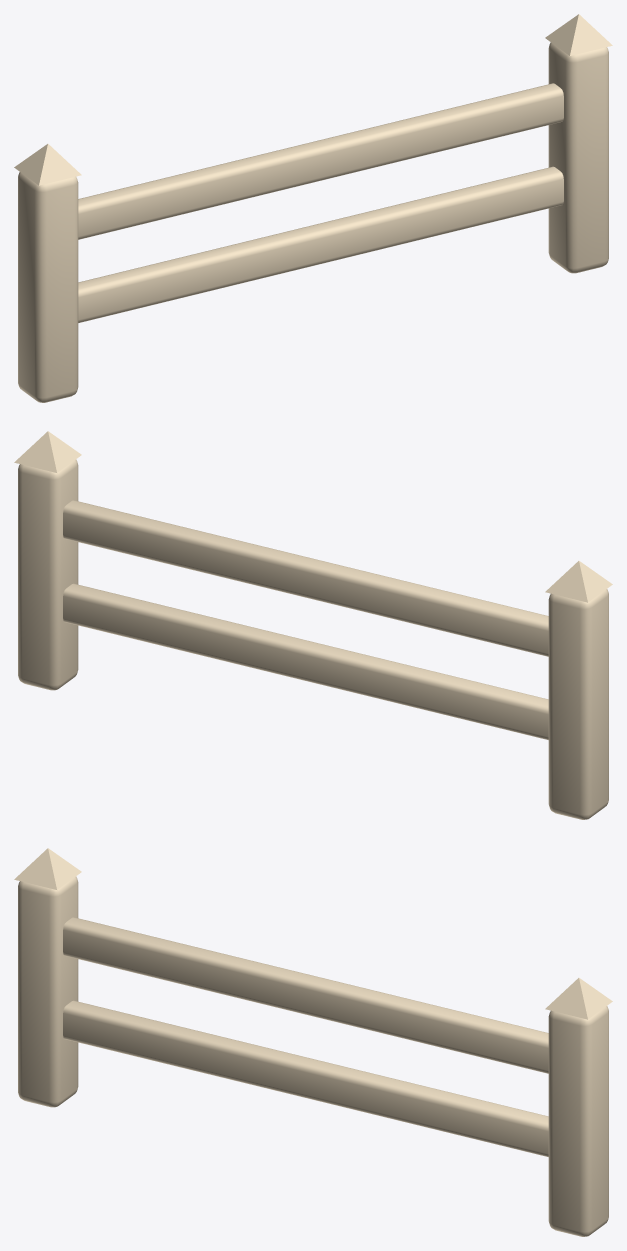
File: fence.glb
The picture shows the model from 3 angles, top to bottom: view 1: azimuth 30°, elevation 25°; view 2: azimuth 150°, elevation 25°; view 3: azimuth 330°, elevation 25°; orthographic projection.
Visible parts, largest first — view 1: Rail0, Rail1, Post0, Post1, Cap0, Cap1; view 2: Rail0, Rail1, Post0, Post1, Cap0, Cap1; view 3: Rail0, Rail1, Post1, Post0, Cap0, Cap1.
Boxes of the visible parts, box(x1,y1,x2,y2) form: Rail0: box(78, 166, 563, 322); Rail1: box(78, 83, 563, 239); Post0: box(18, 172, 78, 402); Post1: box(548, 42, 608, 273); Cap0: box(14, 144, 81, 185); Cap1: box(545, 14, 612, 55); Rail0: box(63, 583, 548, 739); Rail1: box(63, 500, 548, 656); Post0: box(548, 589, 608, 819); Post1: box(18, 459, 78, 690); Cap0: box(545, 561, 612, 602); Cap1: box(14, 431, 81, 472); Rail0: box(63, 1000, 548, 1156); Rail1: box(63, 917, 548, 1073); Post1: box(548, 1006, 608, 1236); Post0: box(18, 876, 78, 1107); Cap0: box(14, 848, 81, 889); Cap1: box(545, 978, 612, 1019).
Size of the model in its own units: 2.16 by 0.9 by 0.1626.
